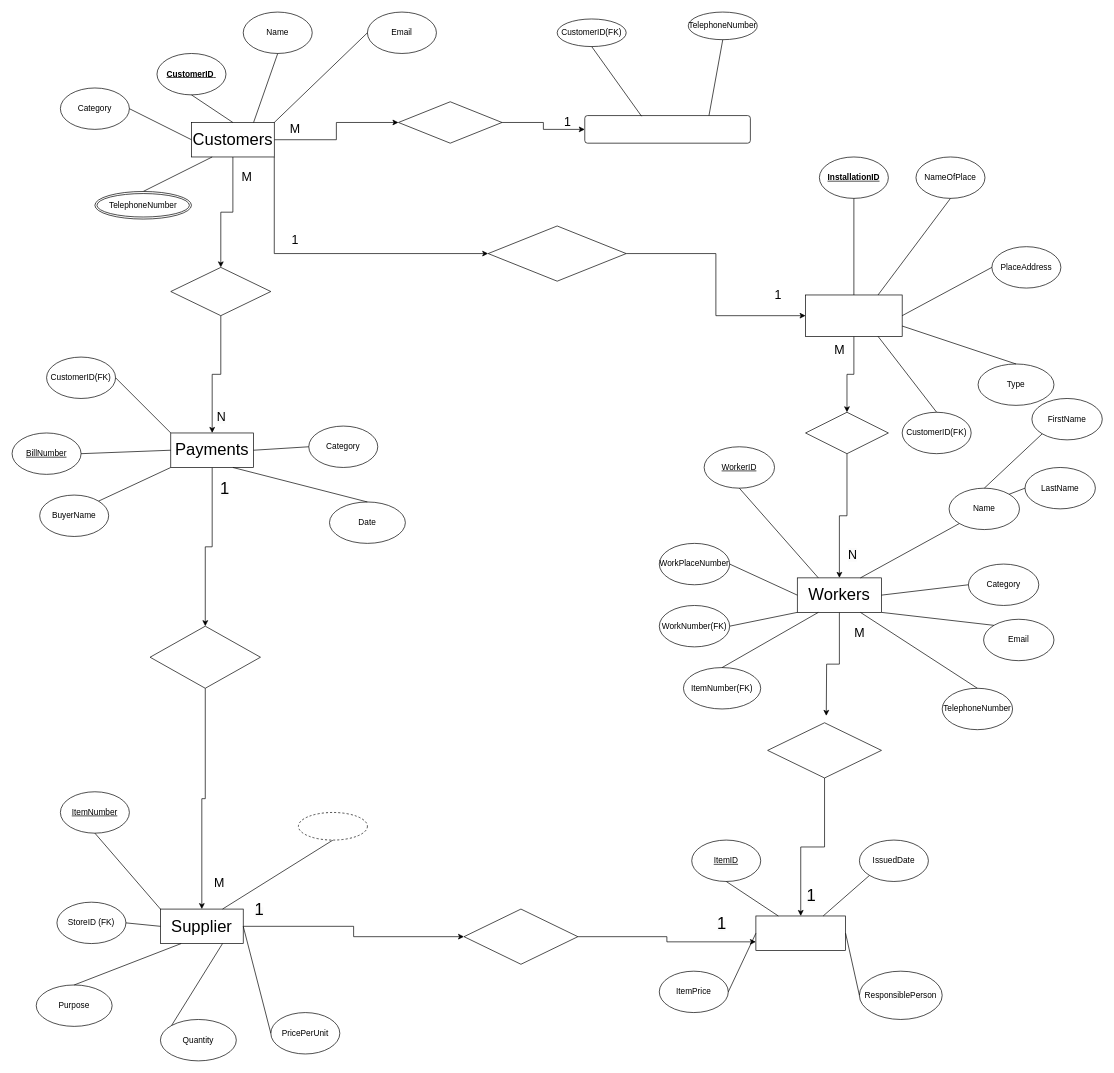
The diagram is 1114 pixels wide and 1073 high, and some of its shapes have lost their labels. Each missing label, with the box of its shape:
Can Have: (398, 101, 502, 143)
CustomerTelephoneNumbers: (584, 115, 750, 143)
Installations: (805, 294, 902, 336)
Making: (170, 267, 271, 316)
Paying: (149, 625, 260, 688)
Regidter: (487, 225, 626, 281)
Store keep: (463, 908, 578, 964)
Stores: (755, 915, 846, 950)
Supplying: (767, 722, 881, 778)
TotalPrice: (298, 812, 367, 840)
Working: (805, 412, 888, 454)
